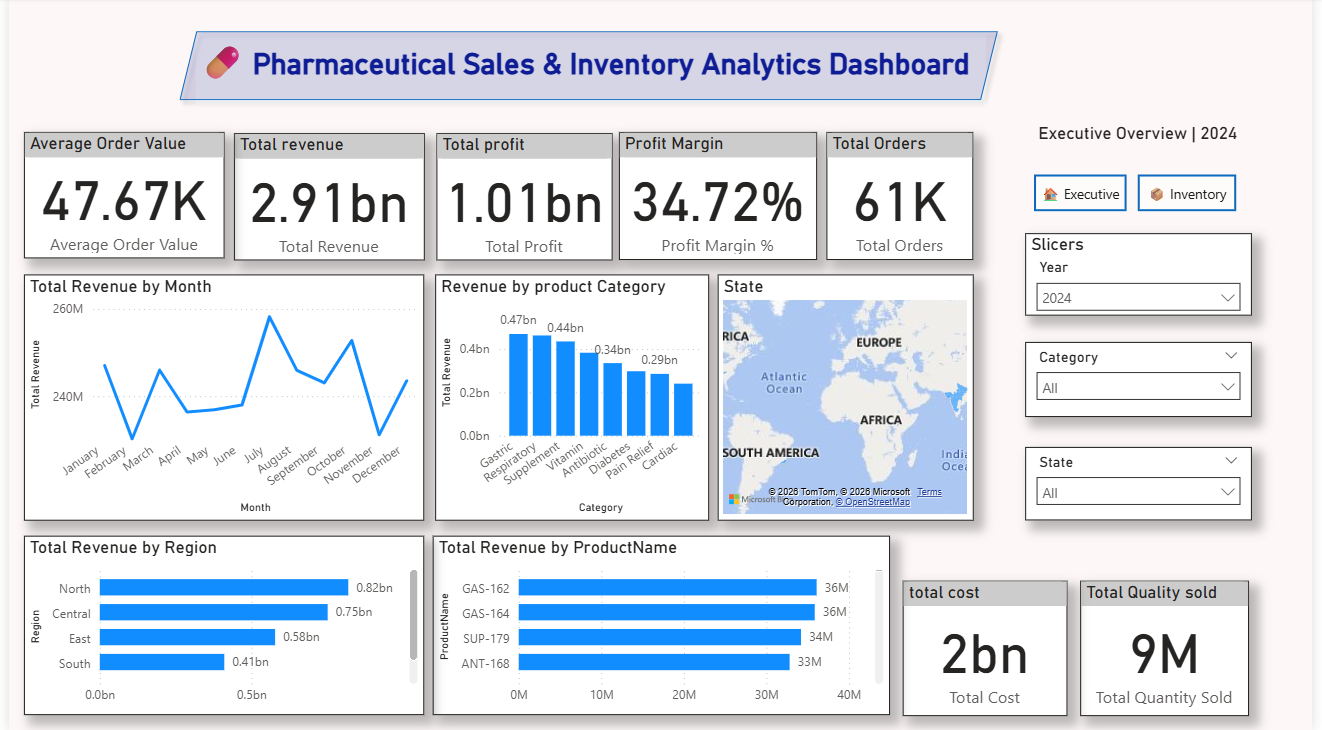

The page's visual inventory and layout, read from the dashboard file:
{"tool":"powerbi","page":{"name":"Page 1","canvas":[1280,720],"ordinal":0},"visuals":[{"type":"card","title":"Total revenue","fields":{"Values":["Measures (3).Total Revenue"]},"box":[220.7,133.5,186.9,124.6],"z":0},{"type":"card","title":"Total Quality sold","fields":{"Values":["Measures (3).Total Quantity Sold"]},"box":[1051.4,572.9,165.7,132.9],"z":1000},{"type":"card","title":"Total profit","fields":{"Values":["Measures (3).Total Profit"]},"box":[420,133.5,172.6,124.6],"z":2000},{"type":"card","title":"Profit Margin ","fields":{"Values":["Measures (3).Profit Margin %"]},"box":[598.6,132.9,194.3,125.7],"z":3000},{"type":"card","title":"total cost","fields":{"Values":["Measures (3).Total Cost"]},"box":[877.1,572.9,161.4,132.9],"z":4000},{"type":"card","title":"Average Order Value","fields":{"Values":["Measures (3).Average Order Value"]},"box":[14.3,132.9,197.1,124.3],"z":5000},{"type":"card","title":"Total Orders","fields":{"Values":["Measures (3).Total Orders"]},"box":[802.9,132.9,144.3,125.7],"z":6000},{"type":"textbox","box":[182.9,37.1,775.7,68.6],"z":7000},{"type":"shape","box":[158.6,24.3,821.4,85.7],"z":8000},{"type":"lineChart","fields":{"Y":["Measures (3).Total Revenue"],"Category":["DateTable.Month"]},"box":[14.3,272.9,392.9,241.4],"z":9000},{"type":"clusteredColumnChart","title":"Revenue by product Category","fields":{"Y":["Measures (3).Total Revenue"],"Category":["Products.Category"]},"box":[418.6,272.9,268.6,241.4],"z":10000},{"type":"filledMap","fields":{"Category":["Customers.State"]},"box":[695.7,272.9,251.4,241.4],"z":11000},{"type":"clusteredBarChart","fields":{"Y":["Measures (3).Total Revenue"],"Category":["Products.ProductName"]},"box":[415.7,528.6,448.6,175.7],"z":12000},{"type":"clusteredBarChart","fields":{"Y":["Measures (3).Total Revenue"],"Category":["SalesRep.Region"]},"box":[14.3,528.6,392.9,175.7],"z":13000},{"type":"slicer","title":"Slicers","fields":{"Values":["DateTable.Year"]},"box":[996.9,232.3,222.2,80.8],"z":14000},{"type":"slicer","fields":{"Values":["Products.Category"]},"box":[996.9,339,222.2,73.6],"z":15000},{"type":"slicer","fields":{"Values":["Customers.State"]},"box":[996.9,441.5,222.2,72.1],"z":16000},{"type":"card","fields":{"Values":["Measures (3).Measure"]},"box":[966.7,115.4,282.8,37.5],"z":18000},{"type":"actionButton","box":[1005.6,174.6,90.9,36.1],"z":19000},{"type":"actionButton","title":"📦 Inventory","box":[1108,174.6,96.7,36.1],"z":20000}]}

Visuals, with their boxes in screenshot pixels (x1, y1, x2, y2), scaled from the page's 1280x720 canvas onto the 1322x730 screenshot:
"Total revenue" card: (228, 135, 421, 262)
"Total Quality sold" card: (1086, 581, 1257, 716)
"Total profit" card: (434, 135, 612, 262)
"Profit Margin " card: (618, 135, 819, 262)
"total cost" card: (906, 581, 1073, 716)
"Average Order Value" card: (15, 135, 218, 261)
"Total Orders" card: (829, 135, 978, 262)
textbox: (189, 38, 990, 107)
shape: (164, 25, 1012, 112)
lineChart - Measures (3).Total Revenue x DateTable.Month: (15, 277, 421, 521)
"Revenue by product Category" clusteredColumnChart: (432, 277, 710, 521)
filledMap - Customers.State: (719, 277, 978, 521)
clusteredBarChart - Measures (3).Total Revenue x Products.ProductName: (429, 536, 893, 714)
clusteredBarChart - Measures (3).Total Revenue x SalesRep.Region: (15, 536, 421, 714)
"Slicers" slicer: (1030, 236, 1259, 317)
slicer - Products.Category: (1030, 344, 1259, 418)
slicer - Customers.State: (1030, 448, 1259, 521)
card - Measures (3).Measure: (998, 117, 1290, 155)
actionButton: (1039, 177, 1132, 214)
"📦 Inventory" actionButton: (1144, 177, 1244, 214)
